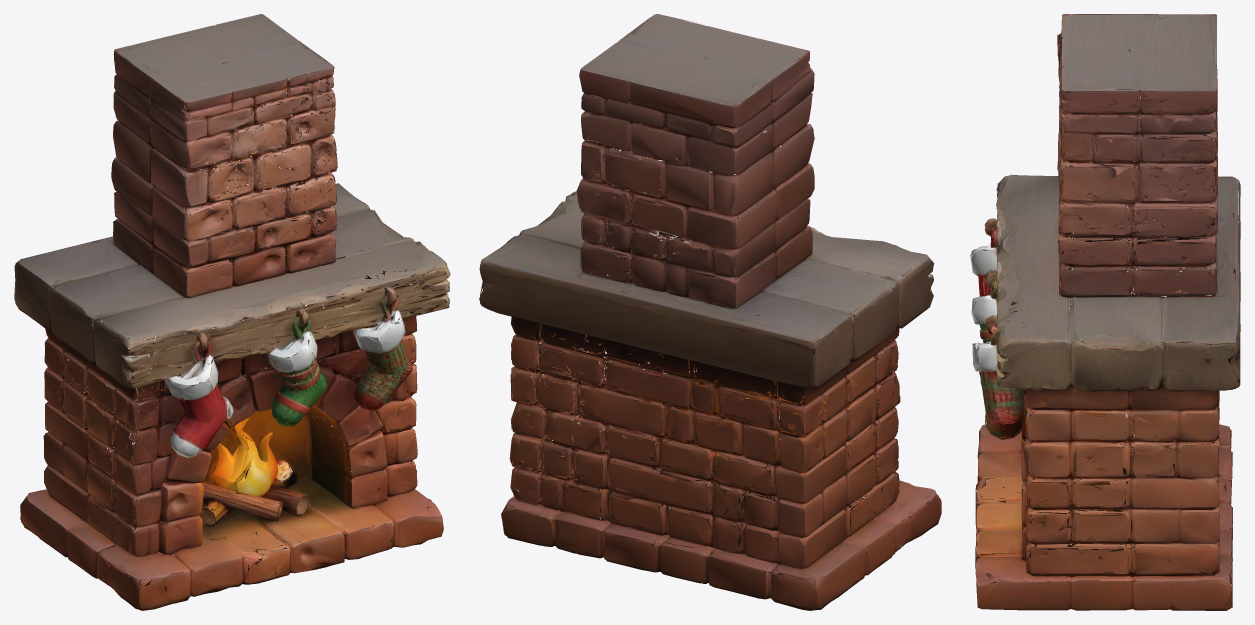
File: fireplace.glb
The picture shows the model from 3 angles, left to right: view 1: azimuth 30°, elevation 25°; view 2: azimuth 150°, elevation 25°; view 3: azimuth 270°, elevation 25°; orthographic projection. The views are drawn at different scales.
Visible parts, largest first — view 1: Fireplace; view 2: Fireplace; view 3: Fireplace.
Boxes of the visible parts, box(x1,y1,x2,y2) form: Fireplace: box(14, 14, 450, 610); Fireplace: box(479, 14, 941, 610); Fireplace: box(970, 14, 1240, 610).
Size of the model in its own units: 1.47 by 2.01 by 1.01.
1 material, 1 textured.
